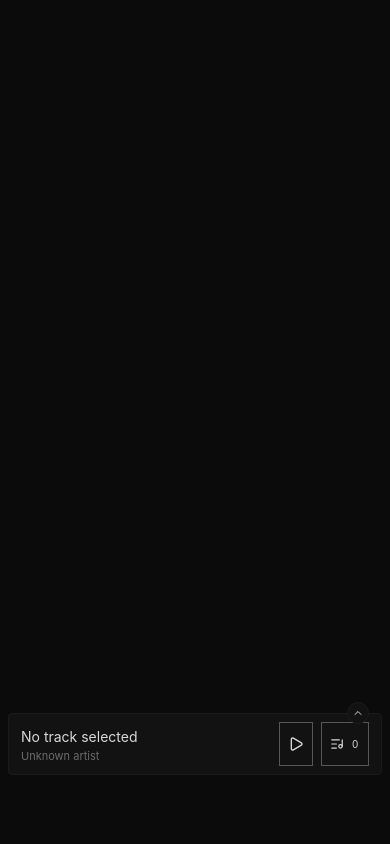
Test: BottomPlayer responsive modes › shows mini player on mobile and expands to full player
The width and height of the screenshot is (390, 844).
Click the button with aria-label "Expand player" at (146, 744), box [21,722,271,766]
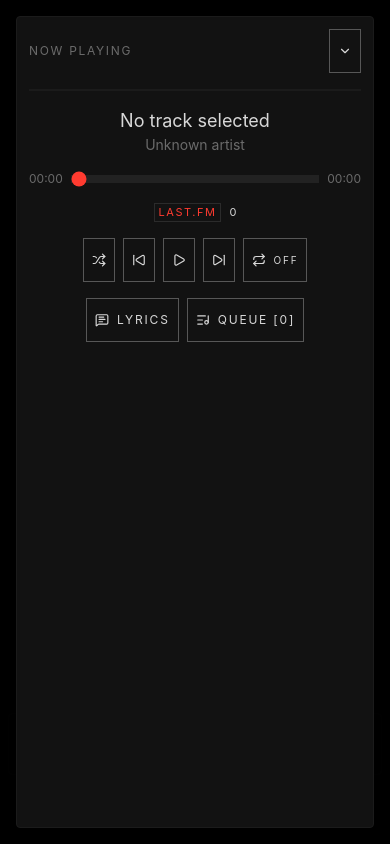
expect the button named "Minimize player" is shown: met, box [329,29,361,73]
